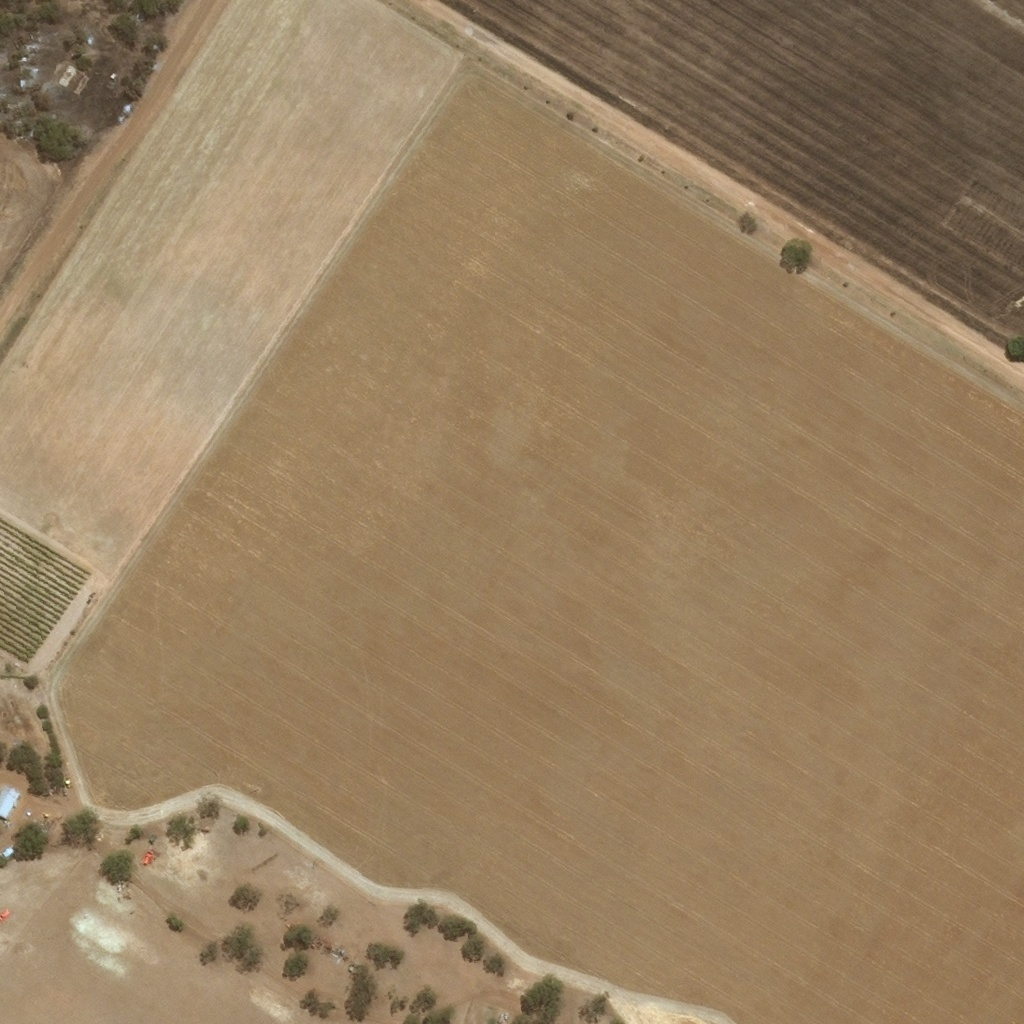0 no-damage: (0, 785, 18, 822)
